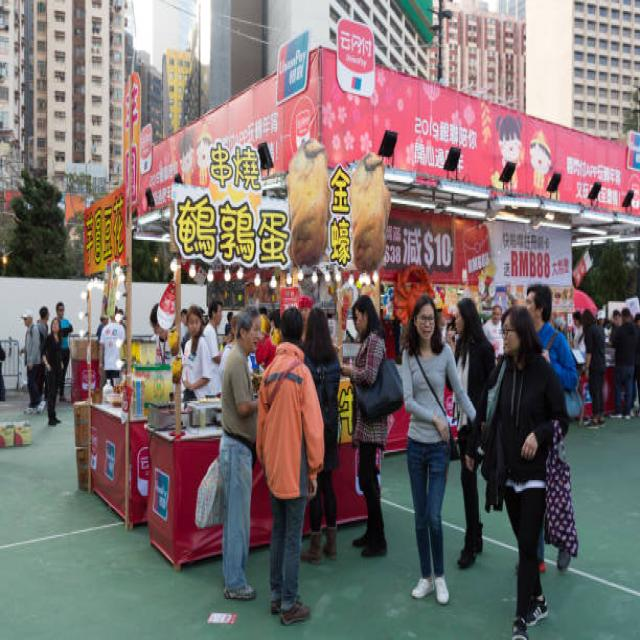Emperan: (144, 140, 386, 579), (64, 163, 190, 527)
